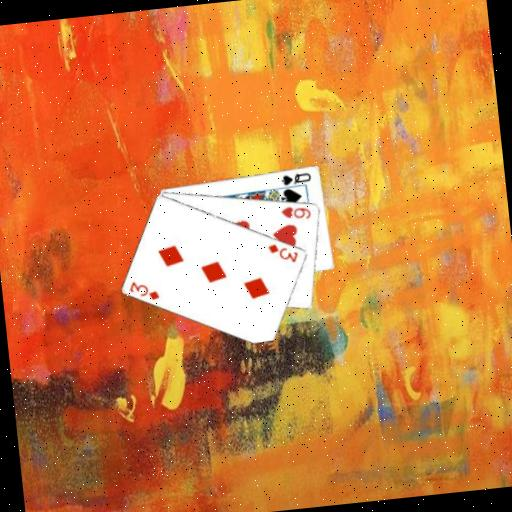3D: (265, 238, 301, 267), (126, 276, 162, 304)
6H: (278, 201, 313, 223)
QS: (278, 168, 313, 187)
